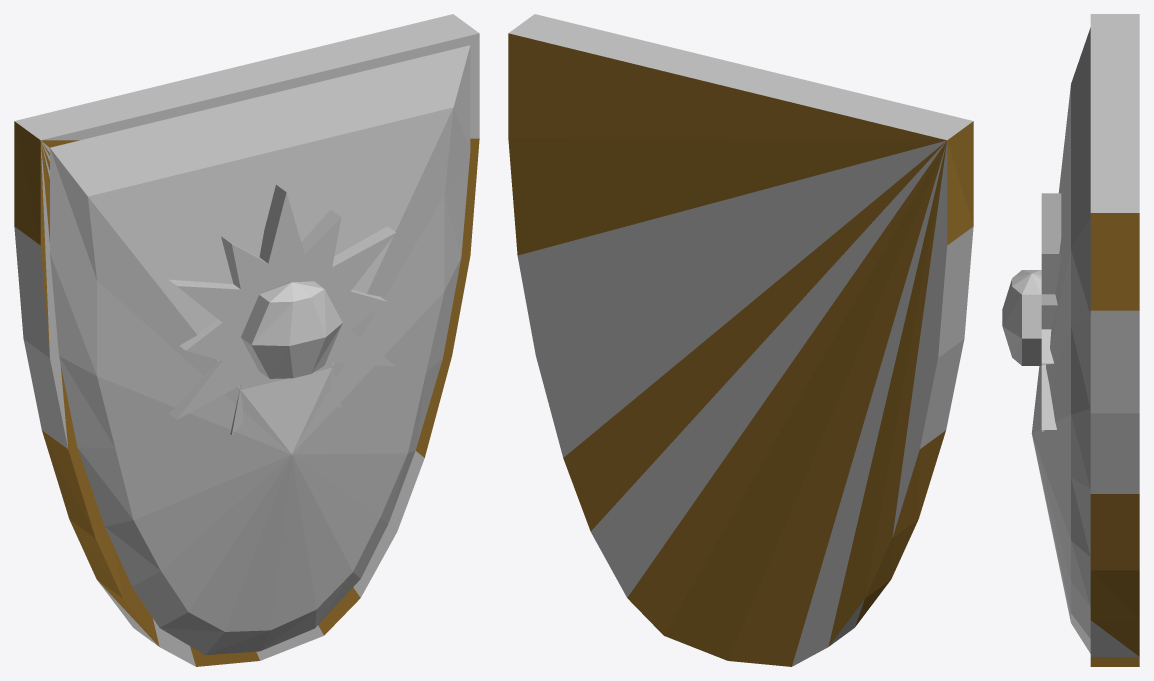
Rendered from B14_3_solar_heater_shield.obj.
3 renders of one model, left to right at view 1: azimuth 30°, elevation 25°; view 2: azimuth 150°, elevation 25°; view 3: azimuth 270°, elevation 25°, orthographic. The views are drawn at different scales.
Parts seen in each view (by area): view 1: B14_3_solar_heater_shield; view 2: B14_3_solar_heater_shield; view 3: B14_3_solar_heater_shield.
Boxes of the visible parts, <box> form: B14_3_solar_heater_shield: <box>14,14,479,666</box>; B14_3_solar_heater_shield: <box>508,14,973,666</box>; B14_3_solar_heater_shield: <box>1002,14,1139,666</box>.
Bounding box in the file's own units: 48 × 60 × 14.
